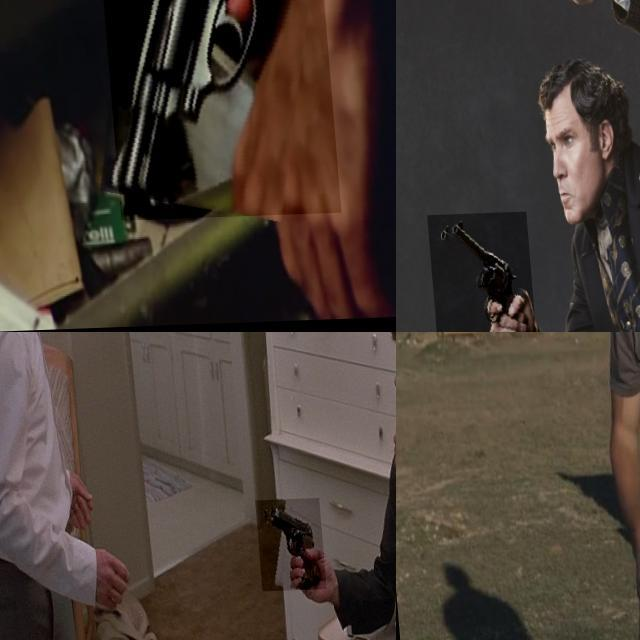gun-knife-thesis - v11 Yolov5 augmented: (86, 0, 332, 223), (422, 213, 530, 332), (248, 501, 318, 594), (521, 0, 593, 36)
